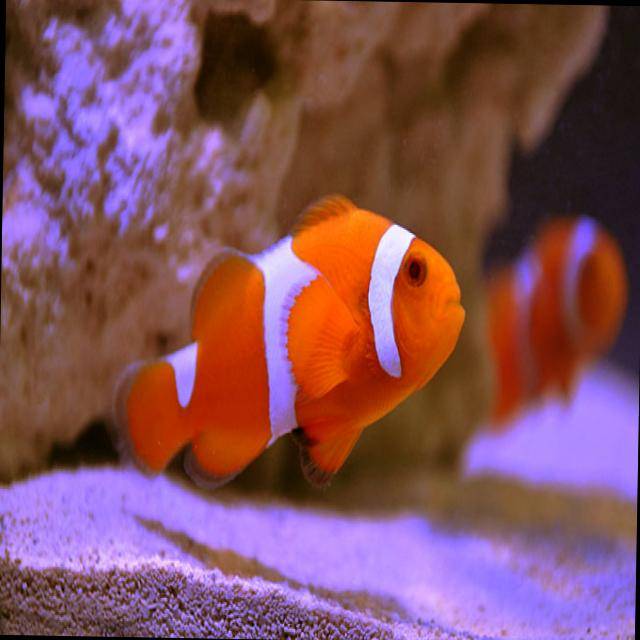ClownFish: (119, 189, 468, 494), (484, 208, 628, 420)
